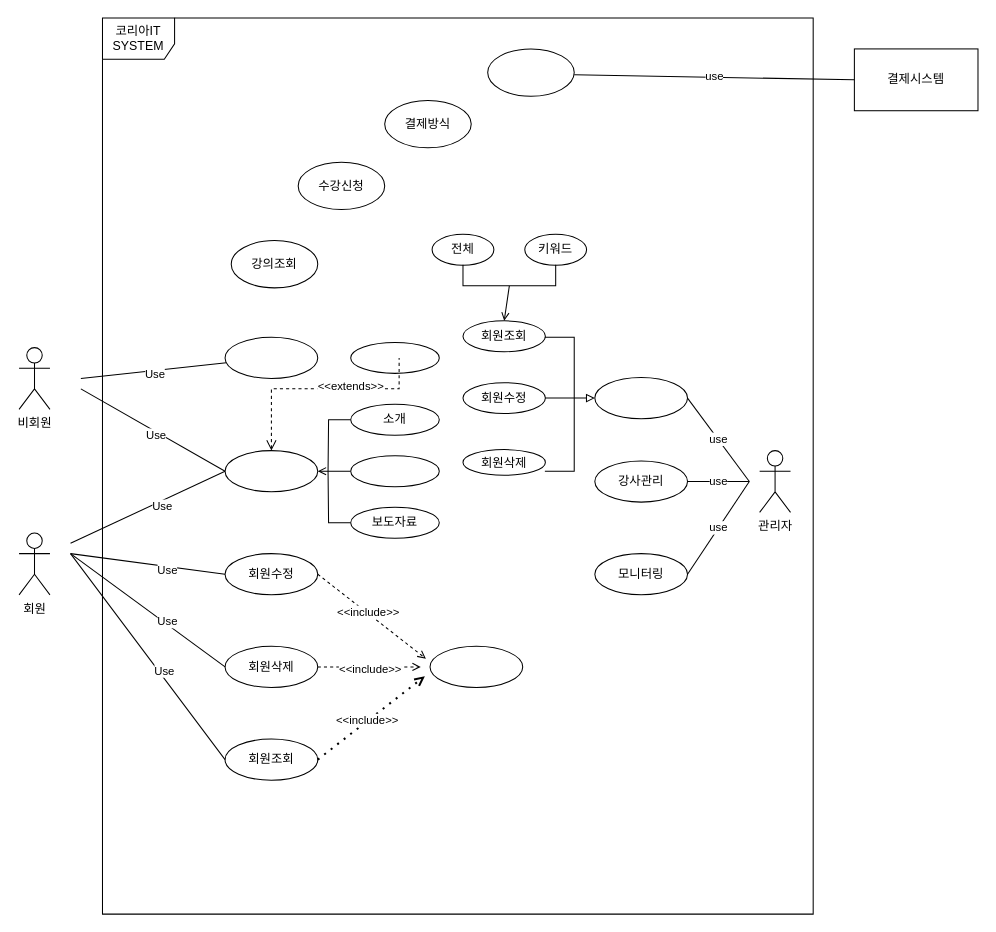
The diagram is 996 pixels wide and 932 high, and some of its shapes have lost their labels. Each missing label, with the centre of its shape:
로그인: the point at 476,666
수강료 조회: the point at 394,357
연혁: the point at 394,471
학원소개: the point at 271,471
확인: the point at 530,72
회원가입: the point at 271,357
회원관리: the point at 641,397
